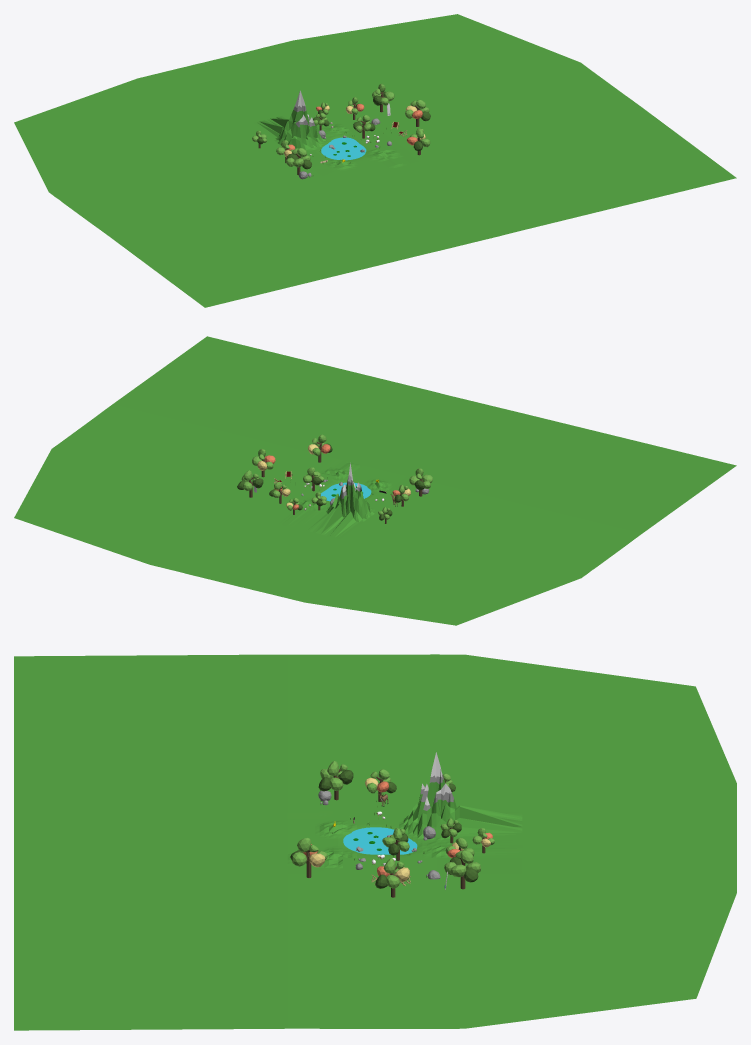
File: nature-scene.glb
3 views of the same model, one above another, from view 1: azimuth 30°, elevation 25°; view 2: azimuth 150°, elevation 25°; view 3: azimuth 270°, elevation 25° (orthographic). The views are drawn at different scales.
Parts seen in each view (by area): view 1: Ground, Lac; view 2: Ground; view 3: Ground, Tree.003 (×2), Tree.006 (×2), Lac.
Part boxes in pixels (box(x1,y1,x2,y2)): Ground: box(14, 14, 736, 307); Lac: box(321, 137, 366, 160); Ground: box(14, 336, 736, 625); Ground: box(14, 654, 736, 1030); Tree.003 (×2): box(318, 760, 481, 889); Tree.006 (×2): box(290, 838, 409, 897); Lac: box(343, 827, 417, 854).
Bounding box in the file's own units: 347 × 33.86 × 283.
